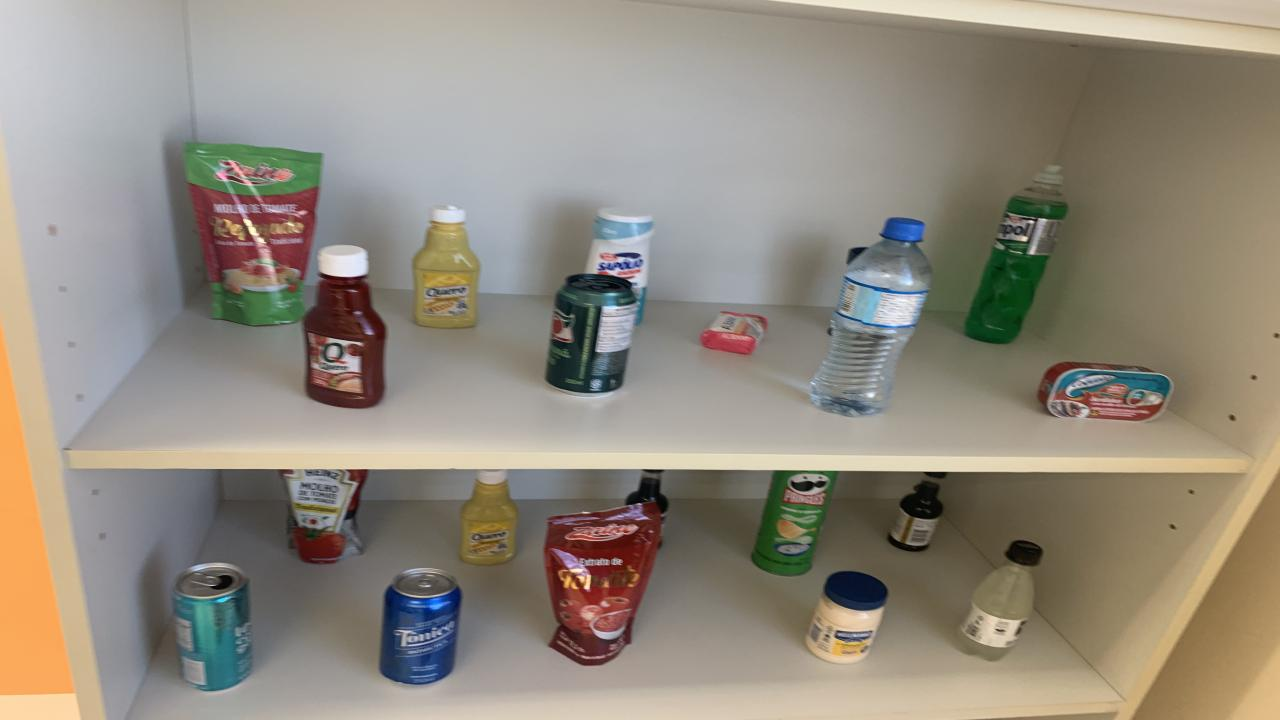Cleaner-Cleanup_Items: (585, 208, 652, 324)
Detergent-Cleanup_Items: (965, 165, 1068, 343)
English_Sauce-Pantry_Items: (888, 472, 945, 551), (625, 469, 668, 519), (848, 248, 868, 264)
Guarana_Can-Drinks: (545, 274, 638, 396)
Ketchup-Pantry_Items: (302, 246, 385, 409)
Mayonnaise-Pantry_Items: (805, 570, 888, 664)
Mustard-Pantry_Items: (412, 204, 480, 328), (460, 469, 518, 564)
Pringles-Snacks: (750, 471, 838, 576)
Soap-Cleanup_Items: (700, 311, 768, 354)
Soda-Drinks: (960, 540, 1042, 660)
Tea-Drinks: (172, 562, 252, 692)
Tomato_Sauce-Pantry_Items: (182, 142, 322, 324), (545, 502, 660, 666), (280, 469, 368, 562)
Tonic-Drinks: (380, 568, 462, 684)
Tuna_Can-Pantry_Items: (1038, 362, 1172, 422)
Water_Bottle-Drinks: (810, 218, 932, 416)
